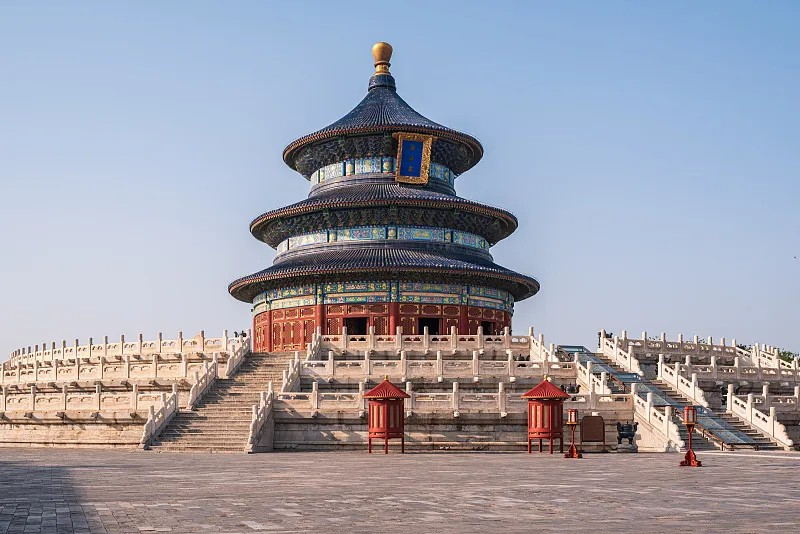Heaven: (227, 42, 540, 356)
